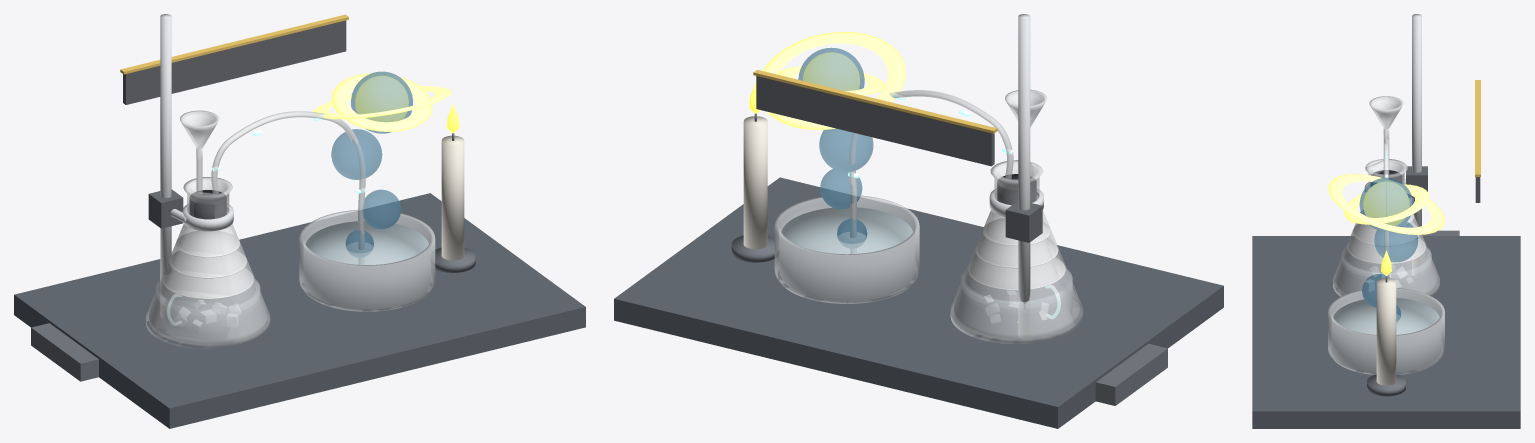
Rendered from hydrogen-evolution-apparatus.glb.
3 views of the same model, side by side, from view 1: azimuth 30°, elevation 25°; view 2: azimuth 150°, elevation 25°; view 3: azimuth 270°, elevation 25° (orthographic). The views are drawn at different scales.
Visible parts, largest first — view 1: hydrogen-evolution-apparatus-plinth, hydrogen-evolution-apparatus-flask, hydrogen-evolution-apparatus-sec-flask, hydrogen-evolution-apparatus-sec-trough, hydrogen-evolution-apparatus-trough, hydrogen-evolution-apparatus-sec-plaque-bg, hydrogen-evolution-apparatus-sec-soap-liquid, hydrogen-evolution-apparatus-soap-liquid, hydrogen-evolution-apparatus-sec-stand-rod, hydrogen-evolution-apparatus-candle-wax, hydrogen-evolution-apparatus-acid-bulk, hydrogen-evolution-apparatus-bubble-3 (+21 smaller); view 2: hydrogen-evolution-apparatus-plinth, hydrogen-evolution-apparatus-flask, hydrogen-evolution-apparatus-sec-flask, hydrogen-evolution-apparatus-sec-trough, hydrogen-evolution-apparatus-trough, hydrogen-evolution-apparatus-sec-plaque-bg, hydrogen-evolution-apparatus-sec-soap-liquid, hydrogen-evolution-apparatus-soap-liquid, hydrogen-evolution-apparatus-sec-stand-rod, hydrogen-evolution-apparatus-candle-wax, hydrogen-evolution-apparatus-sec-pop-ring-2, hydrogen-evolution-apparatus-sec-stand-base (+22 smaller); view 3: hydrogen-evolution-apparatus-plinth, hydrogen-evolution-apparatus-sec-trough, hydrogen-evolution-apparatus-trough, hydrogen-evolution-apparatus-flask, hydrogen-evolution-apparatus-sec-flask, hydrogen-evolution-apparatus-sec-soap-liquid, hydrogen-evolution-apparatus-candle-wax, hydrogen-evolution-apparatus-soap-liquid, hydrogen-evolution-apparatus-sec-stand-rod, hydrogen-evolution-apparatus-sec-pop-ring-2, hydrogen-evolution-apparatus-bubble-3, hydrogen-evolution-apparatus-sec-bubble-3 (+15 smaller).
Boxes of the visible parts, left/top/right/bottom form: hydrogen-evolution-apparatus-plinth: left=14, top=193, right=585, bottom=428; hydrogen-evolution-apparatus-flask: left=146, top=177, right=269, bottom=349; hydrogen-evolution-apparatus-sec-flask: left=146, top=177, right=269, bottom=345; hydrogen-evolution-apparatus-sec-trough: left=299, top=210, right=434, bottom=311; hydrogen-evolution-apparatus-trough: left=299, top=210, right=434, bottom=311; hydrogen-evolution-apparatus-sec-plaque-bg: left=123, top=20, right=346, bottom=104; hydrogen-evolution-apparatus-sec-soap-liquid: left=305, top=221, right=428, bottom=308; hydrogen-evolution-apparatus-soap-liquid: left=306, top=221, right=428, bottom=264; hydrogen-evolution-apparatus-sec-stand-rod: left=160, top=14, right=171, bottom=318; hydrogen-evolution-apparatus-candle-wax: left=441, top=135, right=464, bottom=260; hydrogen-evolution-apparatus-acid-bulk: left=156, top=279, right=260, bottom=341; hydrogen-evolution-apparatus-bubble-3: left=351, top=72, right=412, bottom=133; hydrogen-evolution-apparatus-plinth: left=614, top=177, right=1223, bottom=428; hydrogen-evolution-apparatus-flask: left=951, top=160, right=1083, bottom=343; hydrogen-evolution-apparatus-sec-flask: left=951, top=160, right=1073, bottom=343; hydrogen-evolution-apparatus-sec-trough: left=775, top=196, right=919, bottom=303; hydrogen-evolution-apparatus-trough: left=775, top=196, right=919, bottom=303; hydrogen-evolution-apparatus-sec-plaque-bg: left=756, top=76, right=994, bottom=166; hydrogen-evolution-apparatus-sec-soap-liquid: left=781, top=207, right=912, bottom=300; hydrogen-evolution-apparatus-soap-liquid: left=781, top=207, right=912, bottom=253; hydrogen-evolution-apparatus-sec-stand-rod: left=1018, top=14, right=1030, bottom=338; hydrogen-evolution-apparatus-candle-wax: left=743, top=116, right=767, bottom=249; hydrogen-evolution-apparatus-sec-pop-ring-2: left=763, top=32, right=905, bottom=129; hydrogen-evolution-apparatus-sec-stand-base: left=1095, top=343, right=1167, bottom=405; hydrogen-evolution-apparatus-plinth: left=1252, top=236, right=1520, bottom=428; hydrogen-evolution-apparatus-sec-trough: left=1328, top=288, right=1444, bottom=374; hydrogen-evolution-apparatus-trough: left=1328, top=288, right=1444, bottom=374; hydrogen-evolution-apparatus-flask: left=1333, top=159, right=1439, bottom=296; hydrogen-evolution-apparatus-sec-flask: left=1333, top=159, right=1439, bottom=296; hydrogen-evolution-apparatus-sec-soap-liquid: left=1333, top=297, right=1439, bottom=372; hydrogen-evolution-apparatus-candle-wax: left=1376, top=278, right=1396, bottom=385; hydrogen-evolution-apparatus-soap-liquid: left=1333, top=298, right=1439, bottom=334; hydrogen-evolution-apparatus-sec-stand-rod: left=1412, top=14, right=1421, bottom=276; hydrogen-evolution-apparatus-sec-pop-ring-2: left=1328, top=174, right=1444, bottom=234; hydrogen-evolution-apparatus-bubble-3: left=1360, top=178, right=1412, bottom=230; hydrogen-evolution-apparatus-sec-bubble-3: left=1360, top=178, right=1412, bottom=230.
Size of the model in its own units: 0.355 by 0.25 by 0.22.
